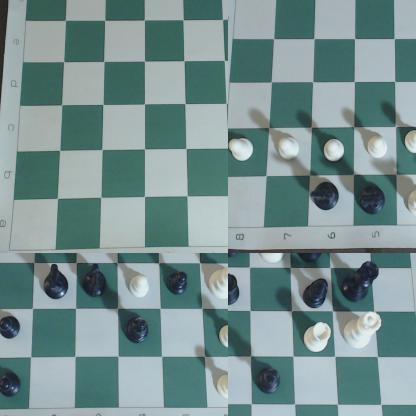black-bishop: (85, 263, 110, 300), (127, 313, 153, 347), (305, 276, 330, 309), (257, 369, 286, 396)
black-king: (303, 254, 333, 267)
black-knight: (44, 258, 74, 305), (355, 181, 391, 219), (310, 178, 342, 215)
black-pawn: (165, 269, 192, 297), (1, 370, 23, 399), (1, 313, 23, 341)
black-queen: (342, 261, 385, 306)
black-rook: (229, 265, 243, 308)
white-king: (251, 254, 290, 265)
white-knight: (407, 188, 416, 218)
white-pawn: (229, 123, 262, 166), (272, 130, 308, 165), (362, 129, 393, 164), (319, 138, 354, 166), (399, 117, 416, 161), (129, 277, 153, 301), (213, 373, 228, 402), (218, 325, 228, 348)
white-queen: (344, 315, 387, 350), (210, 260, 228, 299)
white-rook: (303, 320, 332, 356)
